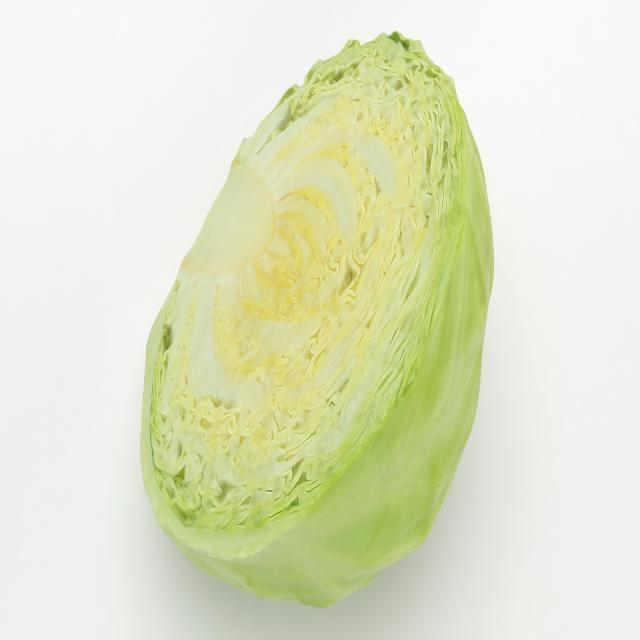haft-cabbage: (137, 26, 494, 614)
